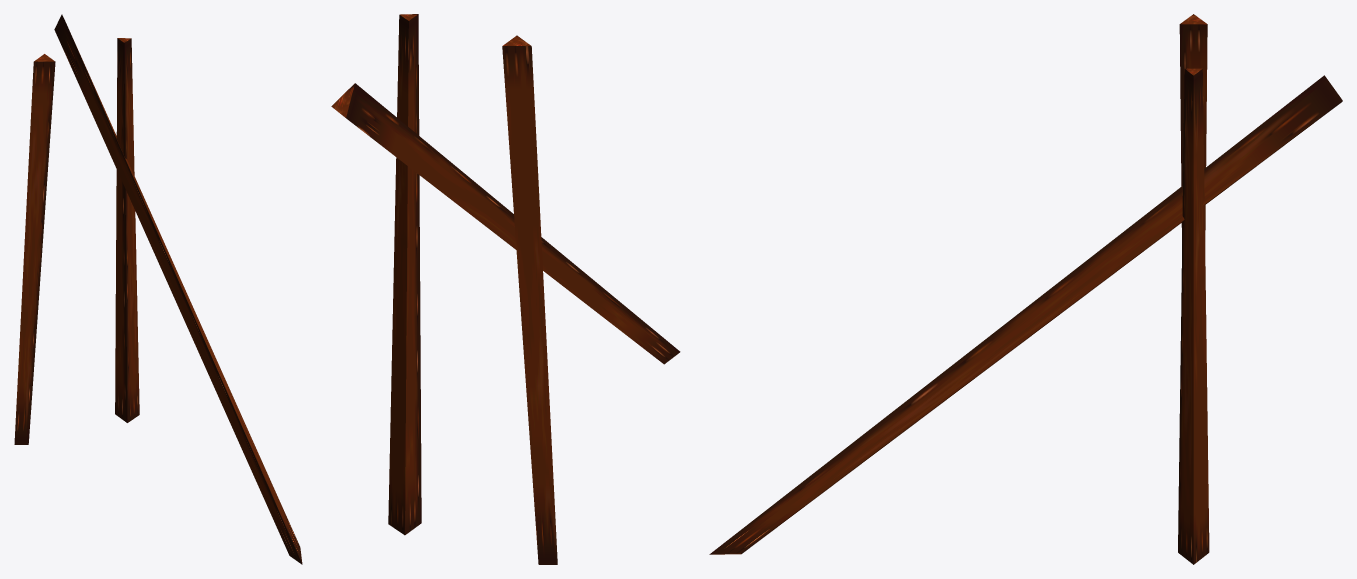
The model's file is Rampe_847.glb.
3 renders of one model, left to right at view 1: azimuth 30°, elevation 25°; view 2: azimuth 150°, elevation 25°; view 3: azimuth 270°, elevation 25°, orthographic. The views are drawn at different scales.
Visible parts, largest first — view 1: pCylinderShape2, pCylinderShape3, pCylinderShape4; view 2: pCylinderShape3, pCylinderShape4, pCylinderShape2; view 3: pCylinderShape2, pCylinderShape4, pCylinderShape3.
Boxes of the visible parts, x1=… form: pCylinderShape2: x1=54, y1=14, x2=302, y2=564; pCylinderShape3: x1=14, y1=54, x2=55, y2=444; pCylinderShape4: x1=115, y1=38, x2=139, y2=422; pCylinderShape3: x1=502, y1=35, x2=557, y2=564; pCylinderShape4: x1=388, y1=14, x2=421, y2=535; pCylinderShape2: x1=331, y1=83, x2=680, y2=364; pCylinderShape2: x1=709, y1=75, x2=1342, y2=554; pCylinderShape4: x1=1178, y1=68, x2=1209, y2=564; pCylinderShape3: x1=1179, y1=14, x2=1207, y2=243.
Size of the model in its own units: 0.4704 by 1.38 by 1.61.
Materials: 3 (3 with a texture image).
